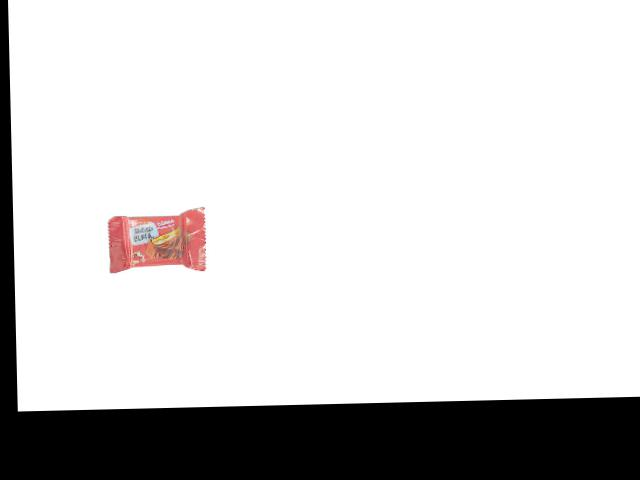chocolate: (98, 200, 207, 272)
